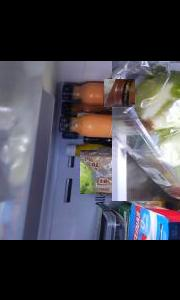Lechuga/Endivia: (112, 60, 180, 200)
